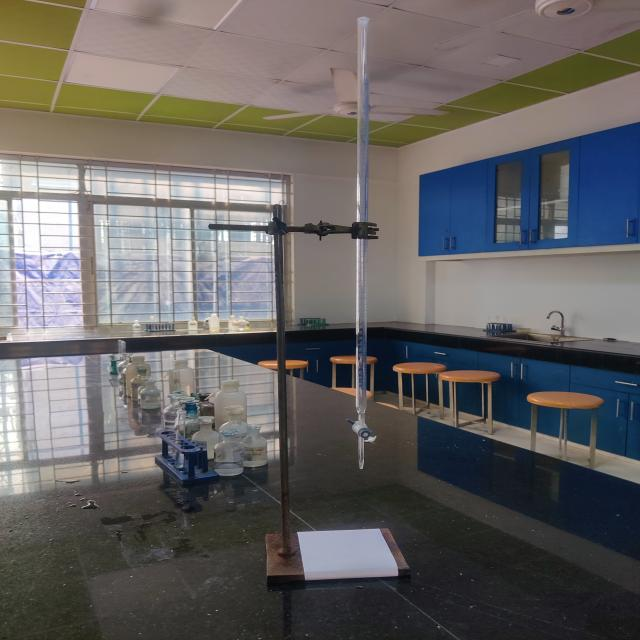Burette_Stands: (188, 193, 439, 610)
